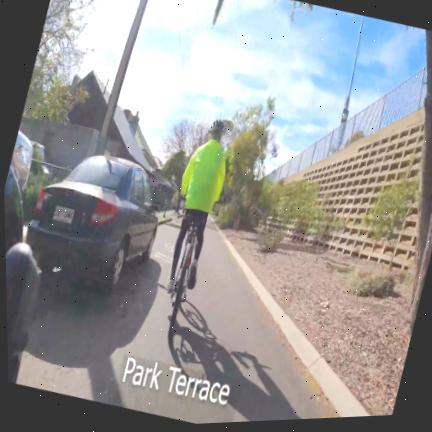Bike_Lane: (120, 221, 333, 424)
